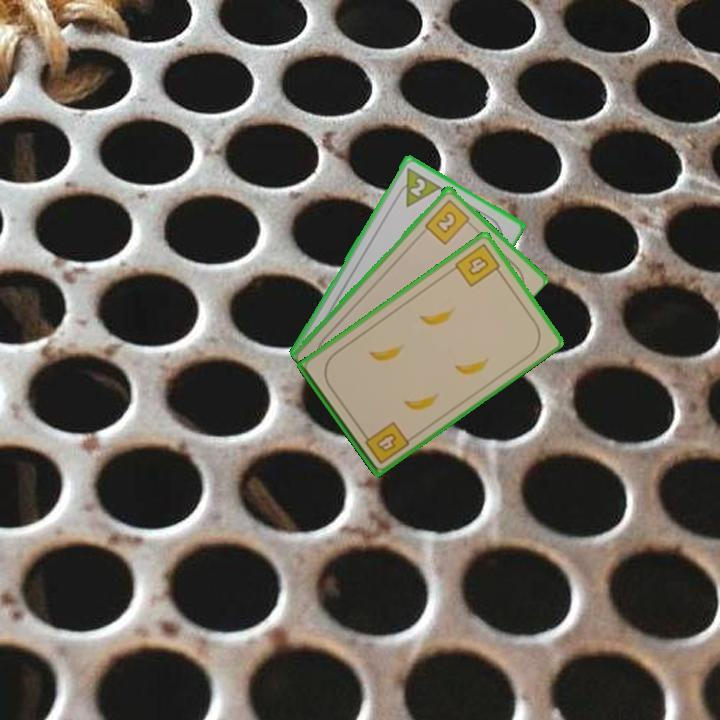2b: (421, 195, 476, 247)
2p: (391, 164, 443, 210)
4b: (451, 240, 505, 290), (358, 418, 412, 467)
